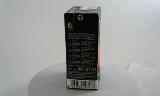appy: (58, 5, 96, 90)
